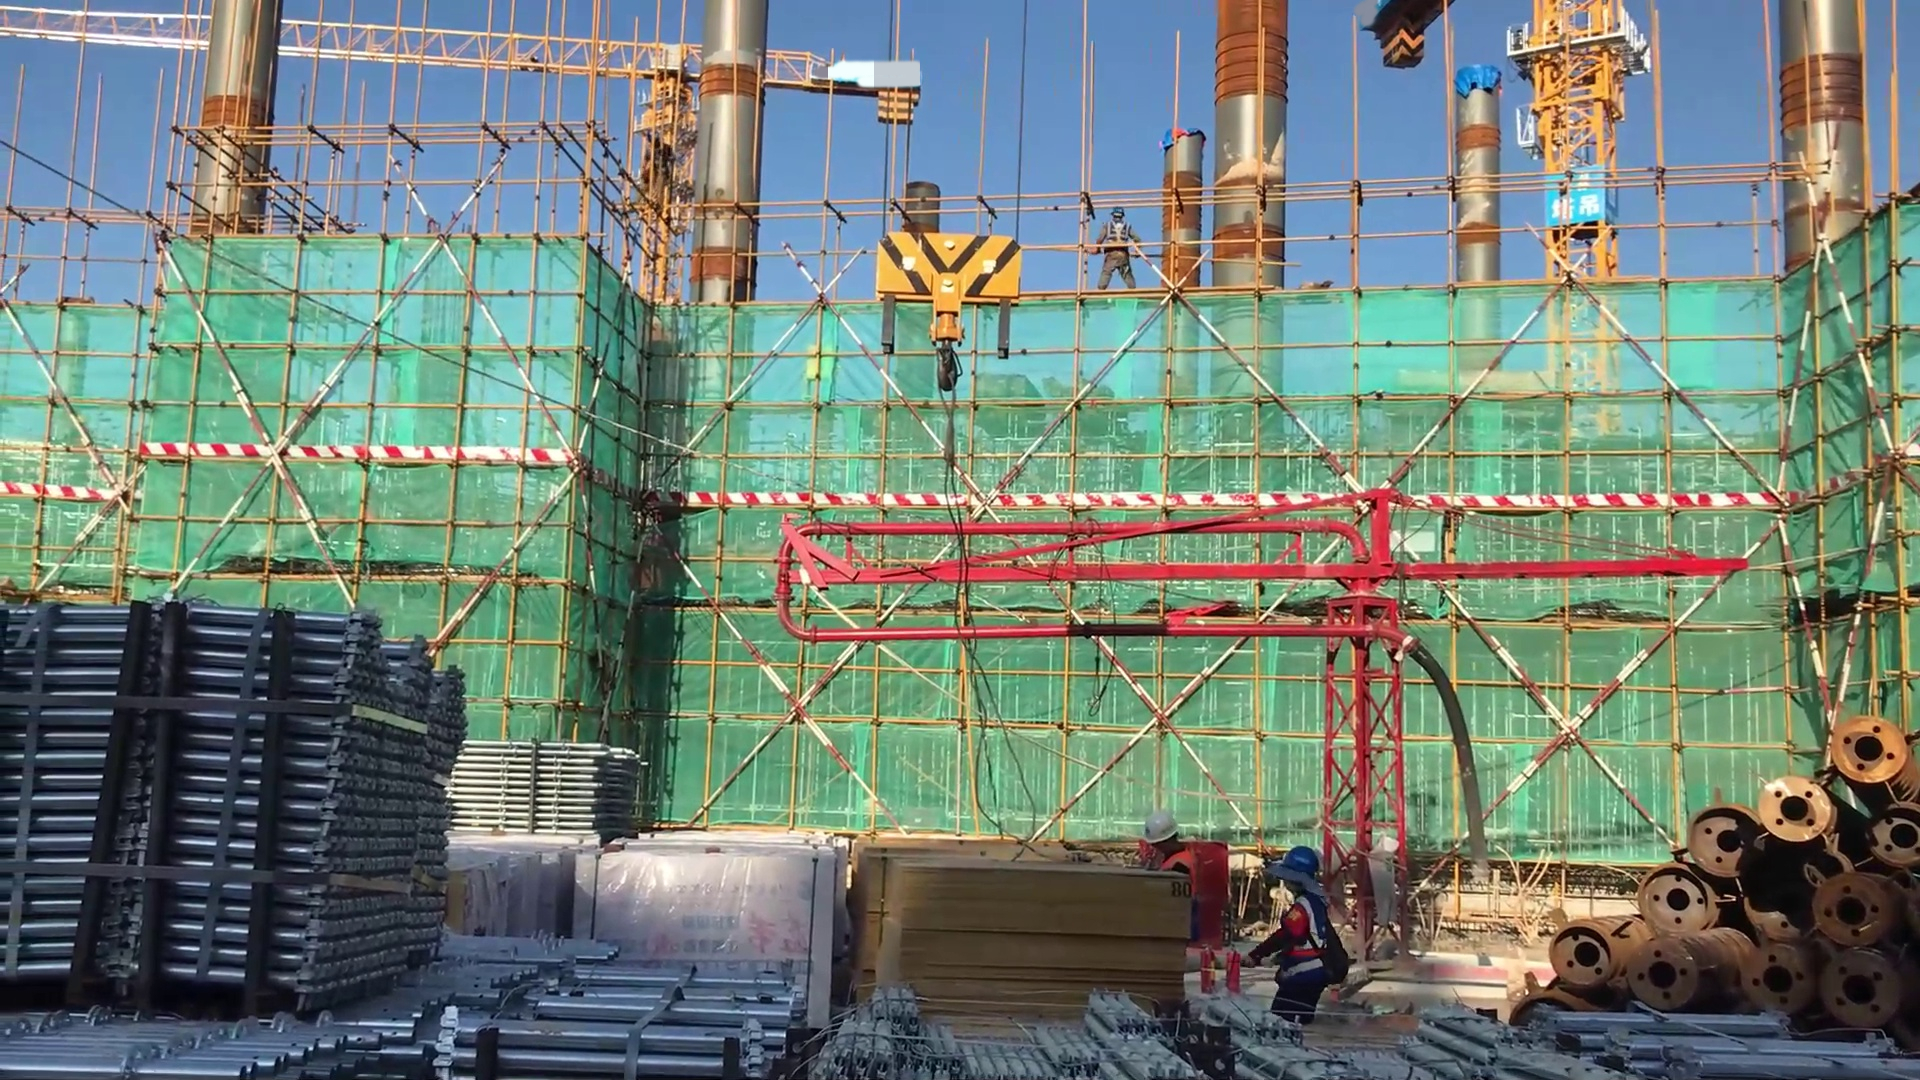board: (843, 841, 1194, 1019)
helmet: (1138, 808, 1191, 856), (1279, 843, 1323, 880), (1108, 201, 1130, 223)
hook: (850, 213, 1030, 445)
person: (1248, 839, 1351, 1042), (1144, 801, 1195, 1006), (1082, 194, 1148, 300)
scaffold: (1, 584, 458, 996), (397, 945, 830, 1076), (6, 978, 420, 1080), (819, 977, 1190, 1080), (1194, 974, 1544, 1080), (1561, 996, 1910, 1080), (440, 737, 641, 837)
slogan: (1550, 169, 1615, 234)
vest: (1276, 885, 1344, 1010), (1159, 849, 1196, 951), (1101, 222, 1139, 249)
